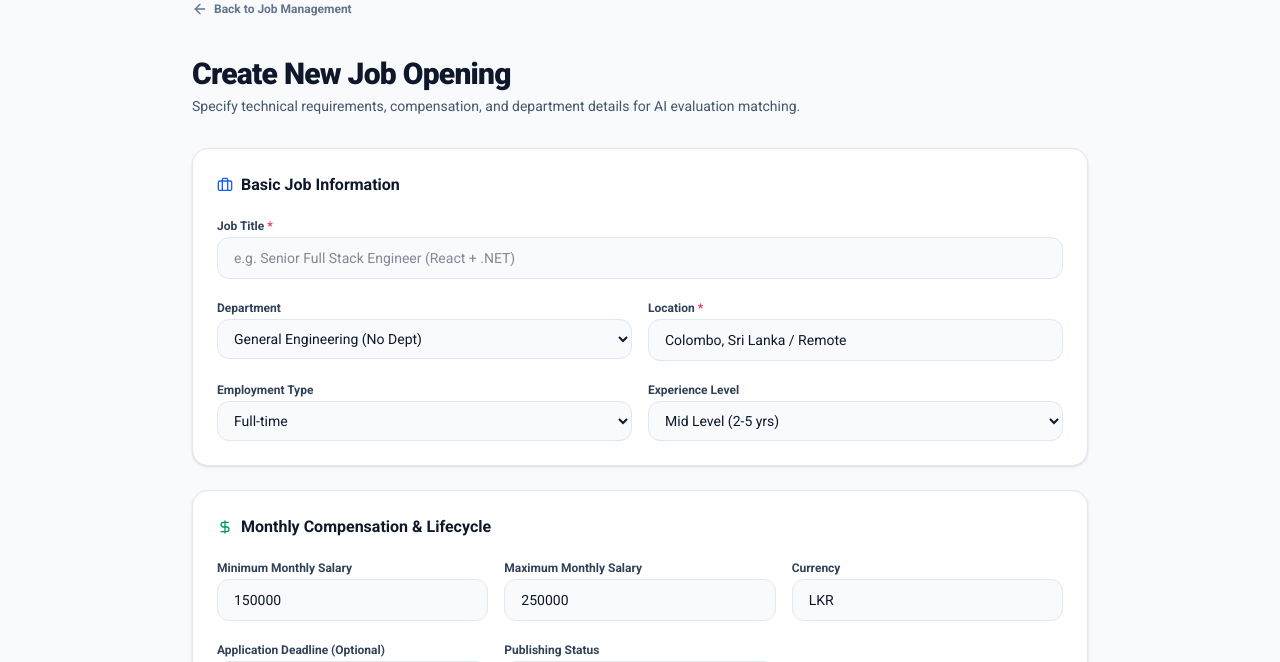
Test case: CreateEditJobPage - Form Validation and Error Handling › form validation › rejects submission when job requirements field is empty
In the field with placeholder "e.g. Senior Full Stack Engineer (React + .NET)": (640,258) x1=217 y1=237 x2=1063 y2=279, type "Senior Engineer"
(page scrolled)
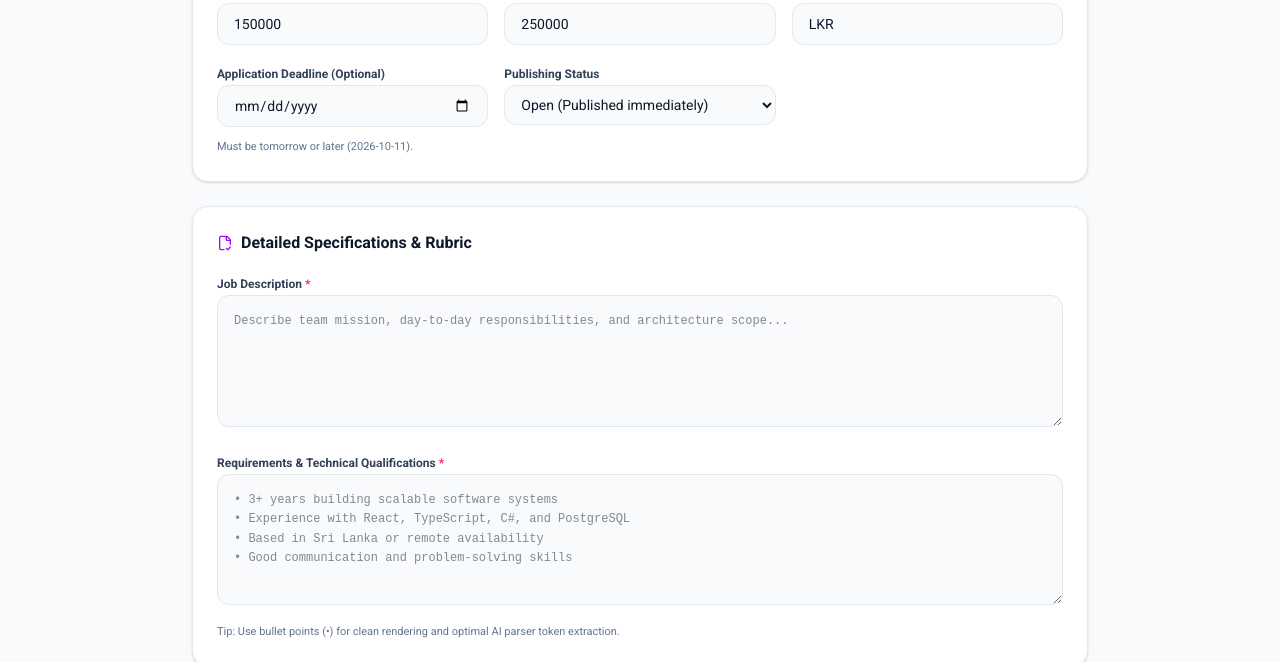
In the text box with placeholder "Describe team mission": (640,361) x1=217 y1=295 x2=1063 y2=426, type "This is a comprehensive job description with over twenty characters."
(page scrolled)
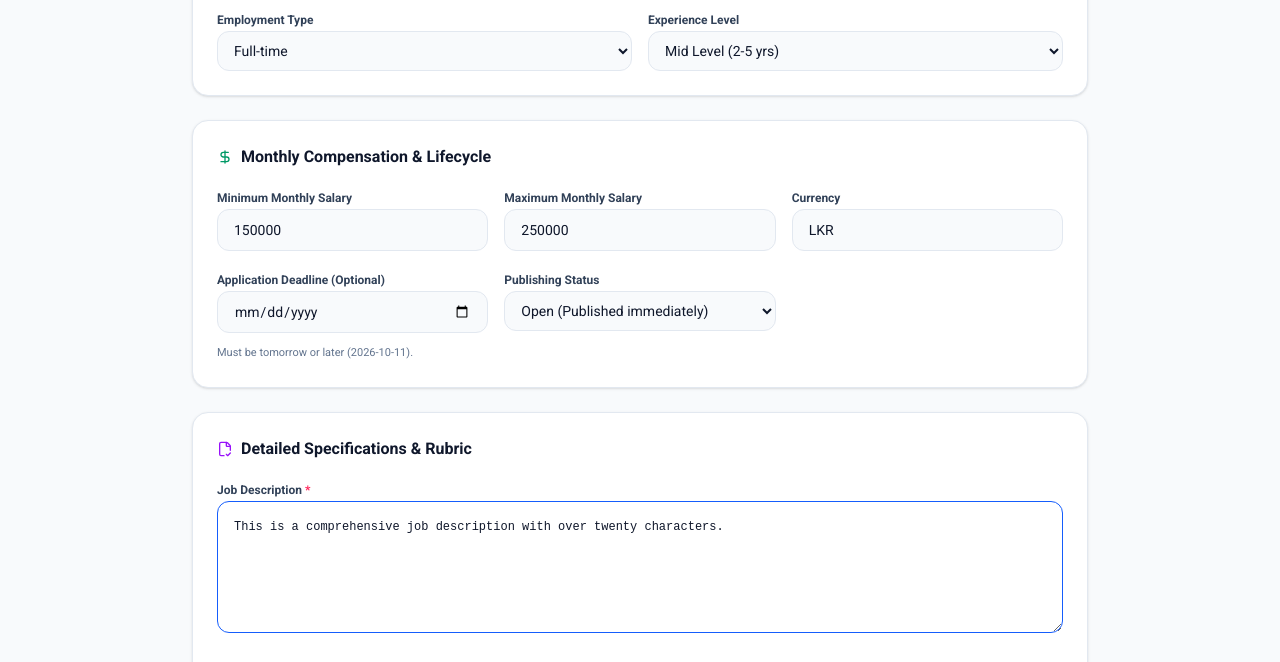
Submit the form
(page scrolled)
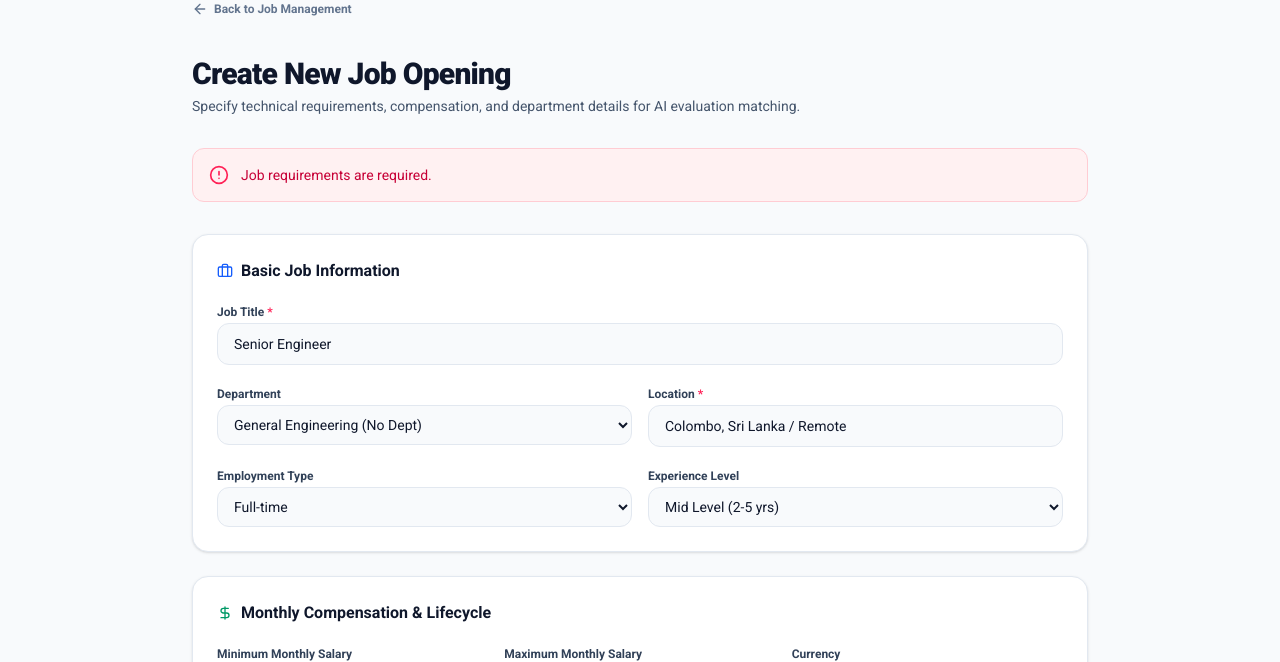
Now the text "Job requirements are required." is shown, box x1=241 y1=165 x2=432 y2=185
